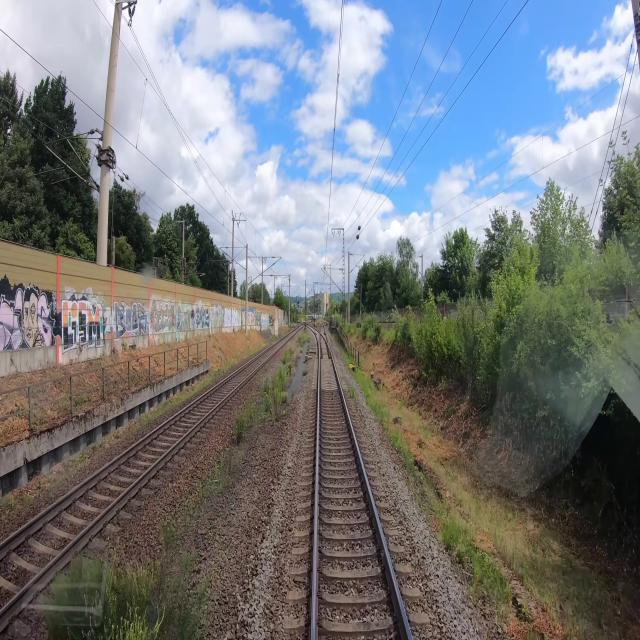Plant: (43, 526, 214, 639), (233, 329, 311, 444)
